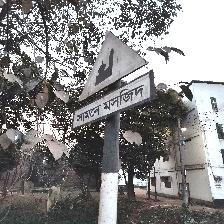Mosque in front: (71, 30, 156, 131)
